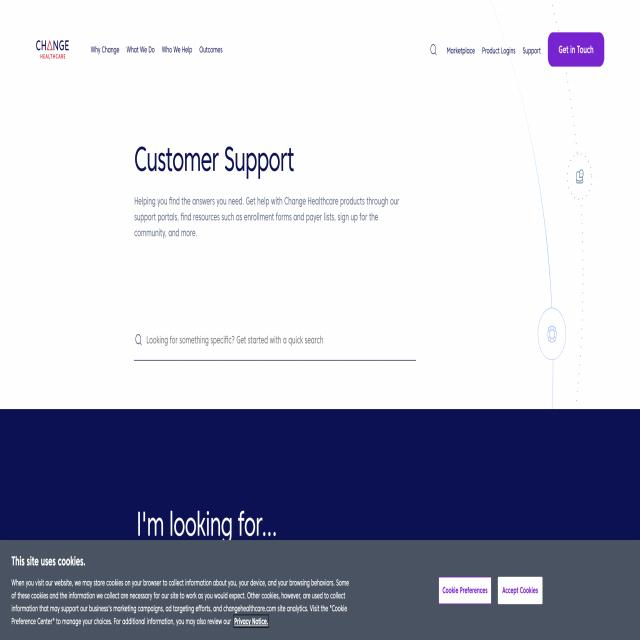Logo: (28, 26, 78, 74)
Navigation: (90, 40, 270, 62)
